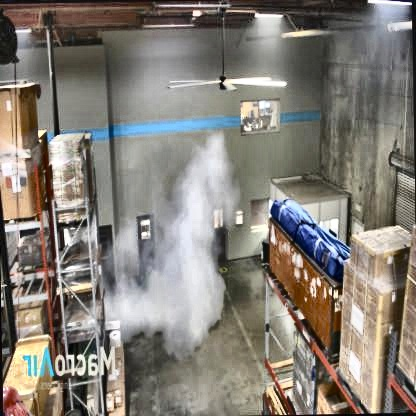smoke: (124, 139, 226, 332)
